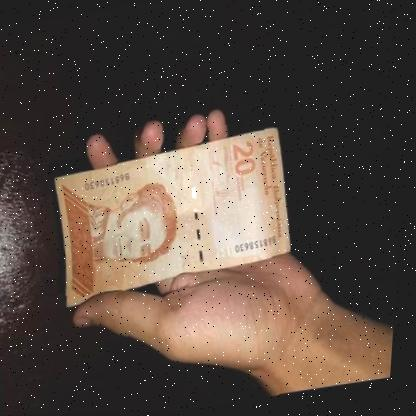twenty-front-vef: (48, 127, 303, 309)
